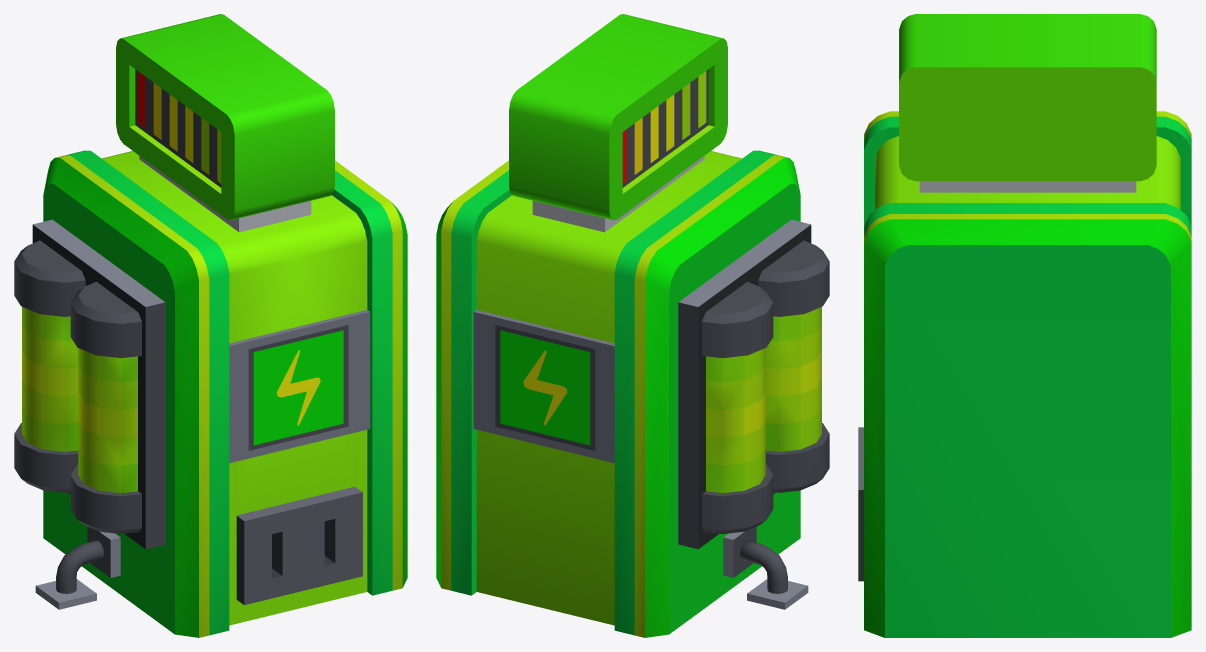
The model's file is NF_Machine_00_E.fbx.
3 views of the same model, side by side, from view 1: azimuth 30°, elevation 25°; view 2: azimuth 150°, elevation 25°; view 3: azimuth 270°, elevation 25° (orthographic). The views are drawn at different scales.
Visible parts, largest first — view 1: NF_Machine_00_E; view 2: NF_Machine_00_E; view 3: NF_Machine_00_E.
Part boxes in pixels (left/top/right/bottom): NF_Machine_00_E: left=14, top=14, right=407, bottom=637; NF_Machine_00_E: left=436, top=14, right=829, bottom=637; NF_Machine_00_E: left=858, top=14, right=1191, bottom=637.
Bounding box in the file's own units: 2.18 × 3.48 × 1.97.
Materials: 1 (1 with a texture image).
